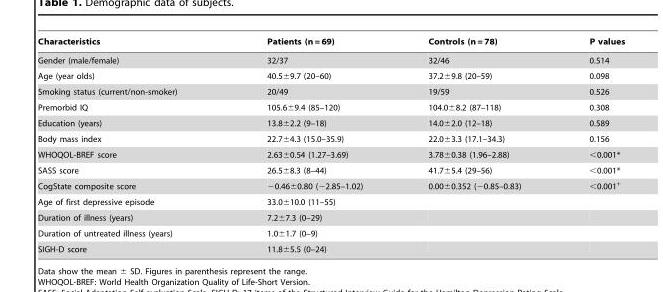table: (36, 36, 624, 253)
table column: (36, 36, 221, 253), (221, 36, 394, 253), (394, 36, 554, 253), (554, 36, 624, 253)
table column header: (36, 36, 624, 50)
table row: (36, 50, 624, 67), (36, 176, 624, 193), (36, 67, 624, 83), (36, 83, 624, 99), (36, 114, 624, 130), (36, 130, 624, 146), (36, 146, 624, 162), (36, 193, 624, 209), (36, 209, 624, 225), (36, 99, 624, 114), (36, 225, 624, 240), (36, 36, 624, 50), (36, 162, 624, 176), (36, 240, 624, 253)
